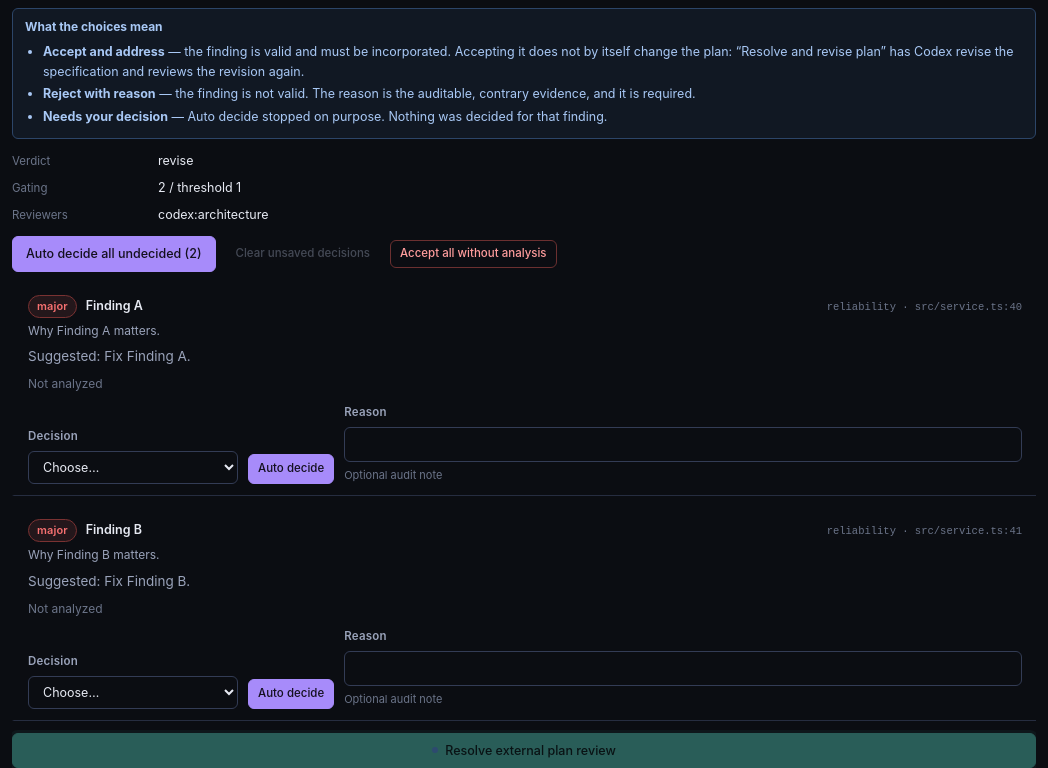
Test: plan review: Auto decide beside every Decision › puts a reject into Decision with its reason, which is what makes a reject valid
(page scrolled)
Expected: the text "Finding A" is shown, [86, 296, 143, 315]
Click the button "Auto decide" below "Fix Finding B." at (291, 694), box [248, 678, 334, 708]
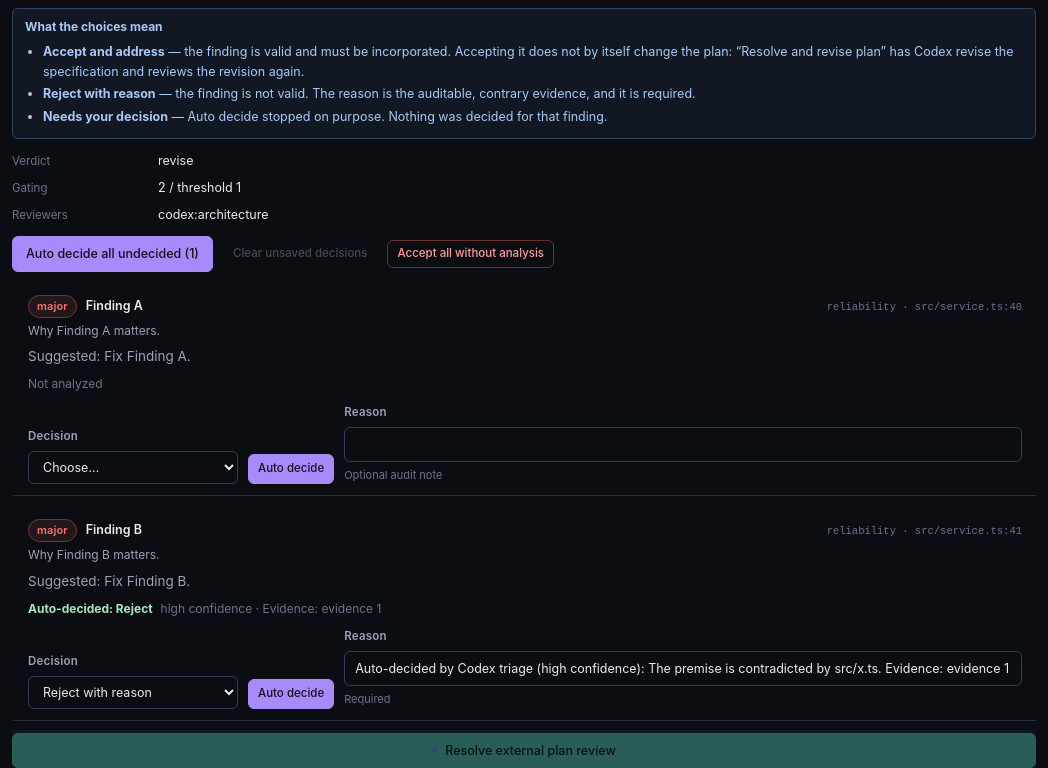
Now the dropdown labelled "Decision" below "Auto-decided:" shows "Reject with reason", box [28, 676, 238, 708]
Now the text "Auto-decided: Reject" is shown, box [28, 600, 153, 618]
